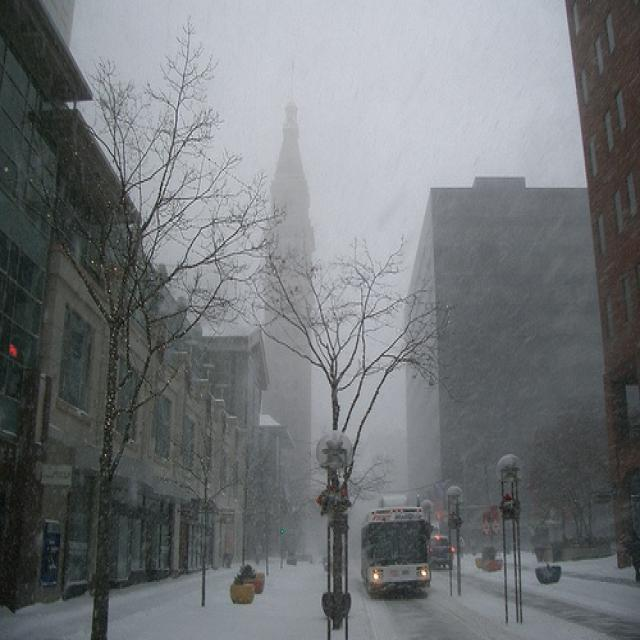bus: (358, 502, 432, 602)
car: (428, 536, 456, 573)
